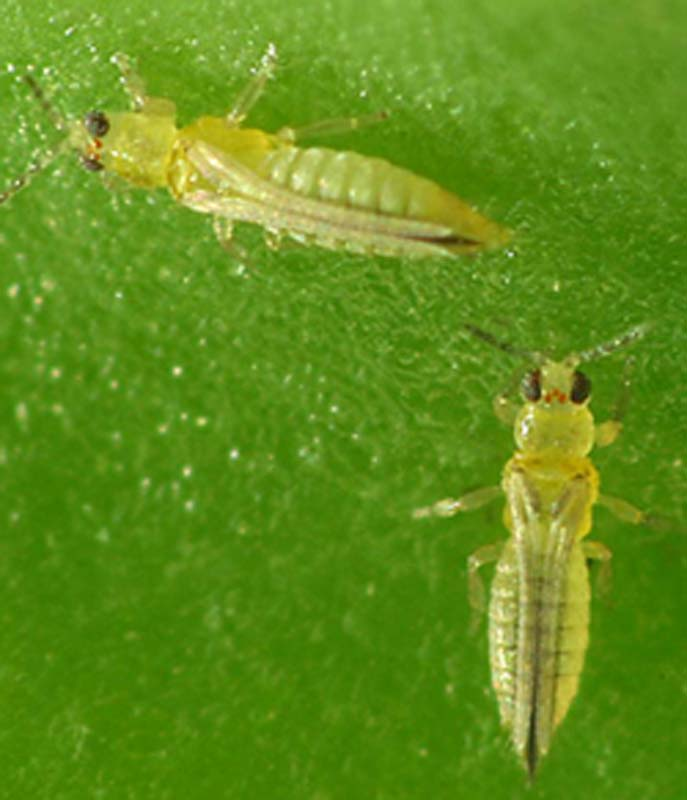Thrips: (67, 19, 537, 294), (425, 309, 663, 787)
